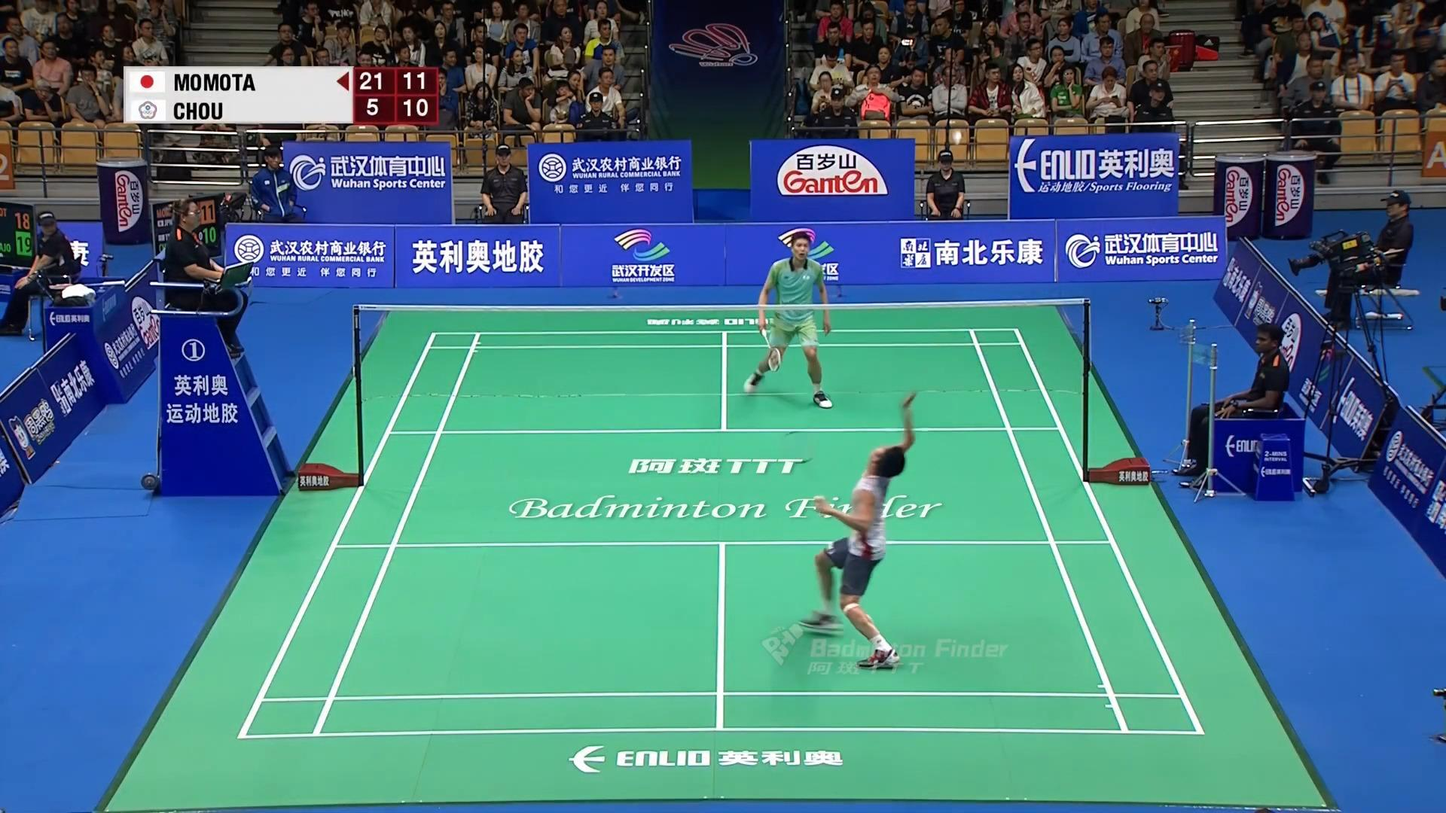shuttlecock: (953, 131, 964, 146)
